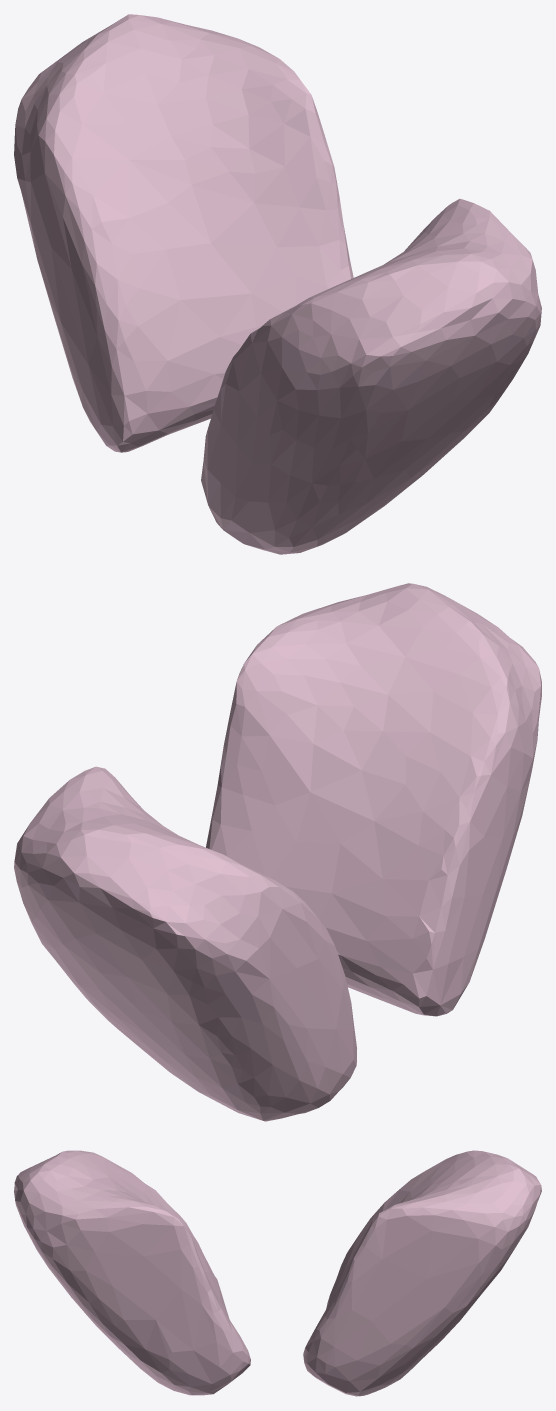
3 views of the same model, one above another, from view 1: azimuth 30°, elevation 25°; view 2: azimuth 150°, elevation 25°; view 3: azimuth 270°, elevation 25° (orthographic). The views are drawn at different scales.
Visible parts, largest first — view 1: 1107.obj; view 2: 1107.obj; view 3: 1107.obj.
Part boxes in pixels (bbox=[...]): 1107.obj: bbox=[14, 14, 541, 554]; 1107.obj: bbox=[14, 583, 541, 1121]; 1107.obj: bbox=[14, 1150, 541, 1396].
Size of the model in its own units: 850 by 1137 by 2300.
